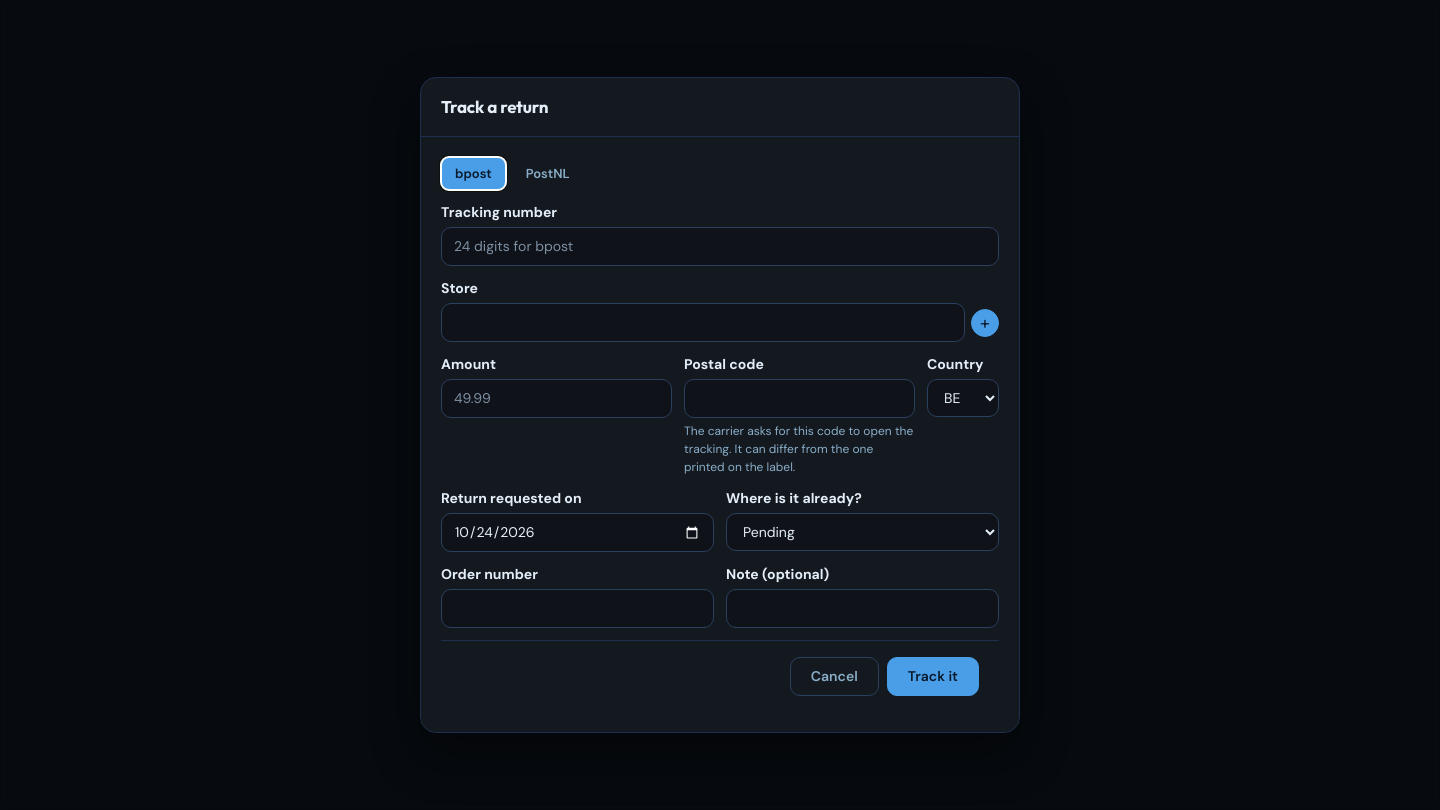
it: what it asks for › asks for both days on a return the store already has
Select "Received" in the dropdown labelled "Where is it already?" at x=862, y=532, box [726,513,999,551]
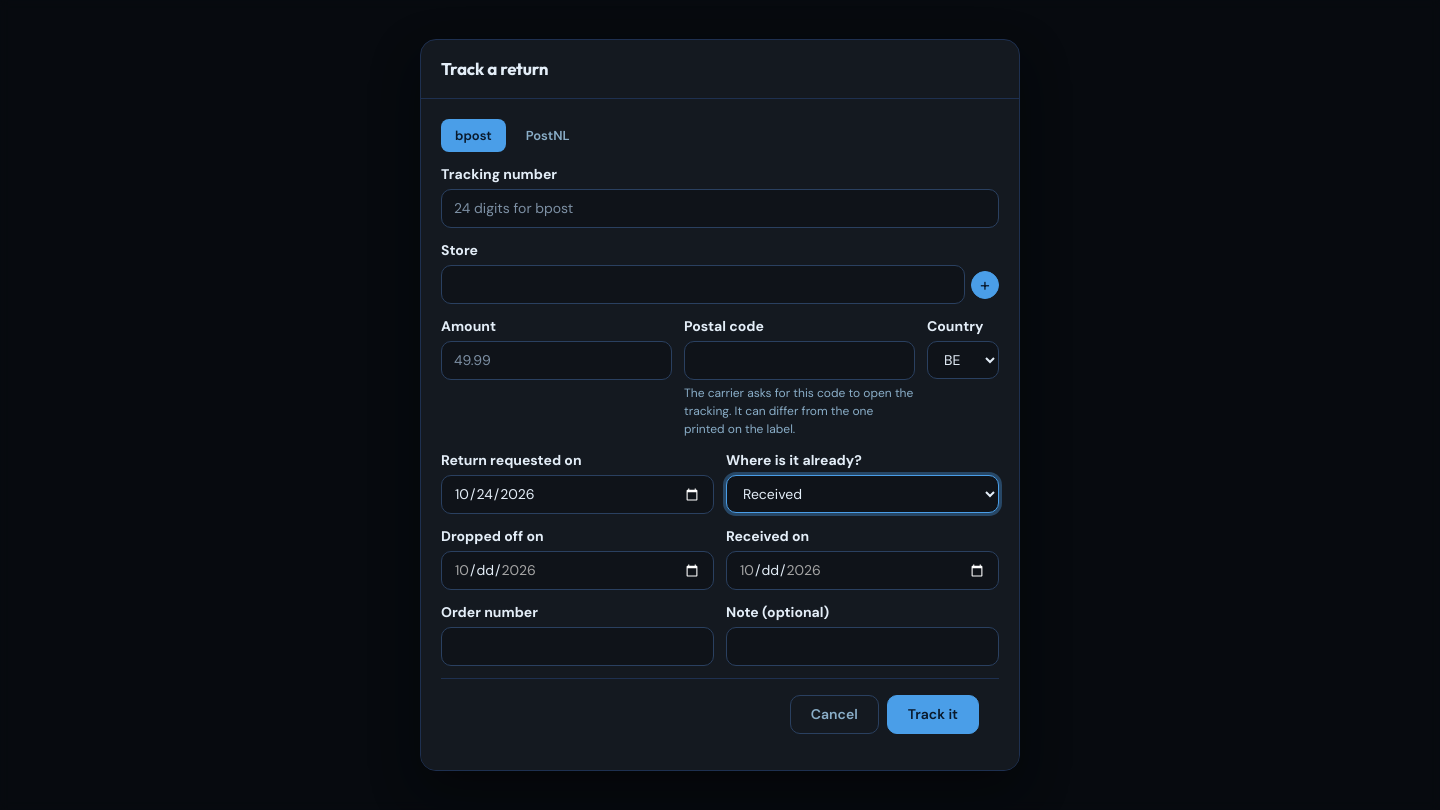
Check: the date field labelled "Dropped off on" is shown, box [441,551,714,590]
Check: the date field labelled "Received on" is shown, box [726,551,999,590]
